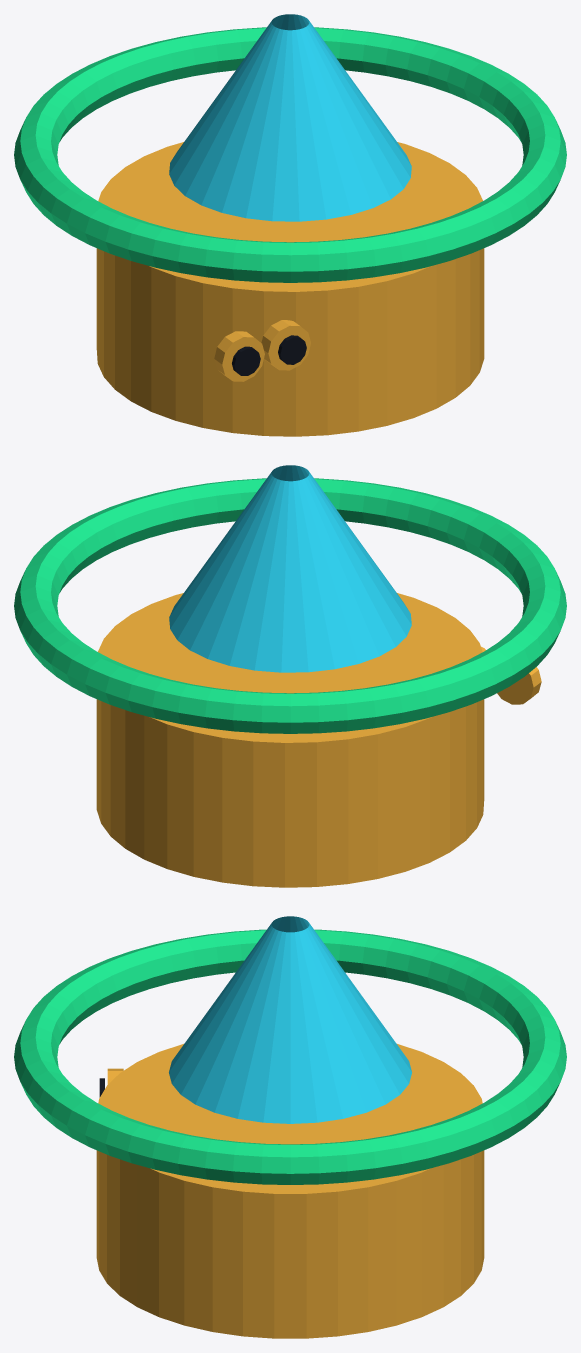
Rendered from 79_L86_ServicingMissionCertificationBeacon.fbx.
3 renders of one model, top to bottom at view 1: azimuth 30°, elevation 25°; view 2: azimuth 150°, elevation 25°; view 3: azimuth 270°, elevation 25°, orthographic.
Visible parts, largest first — view 1: L86_ServicingMissionCertificationBeacon_Part_0000, L86_ServicingMissionCertificationBeacon_Part_0001, L86_ServicingMissionCertificationBeacon_Part_0002, L86_ServicingMissionCertificationBeacon_Part_0003, L86_ServicingMissionCertificationBeacon_Part_0005, L86_ServicingMissionCertificationBeacon_Part_0006, L86_ServicingMissionCertificationBeacon_Part_0004; view 2: L86_ServicingMissionCertificationBeacon_Part_0000, L86_ServicingMissionCertificationBeacon_Part_0001, L86_ServicingMissionCertificationBeacon_Part_0002, L86_ServicingMissionCertificationBeacon_Part_0003; view 3: L86_ServicingMissionCertificationBeacon_Part_0000, L86_ServicingMissionCertificationBeacon_Part_0001, L86_ServicingMissionCertificationBeacon_Part_0002.
Part boxes in pixels (x1,y1,x2,y2): L86_ServicingMissionCertificationBeacon_Part_0000: (96,142,484,436); L86_ServicingMissionCertificationBeacon_Part_0001: (14,27,566,282); L86_ServicingMissionCertificationBeacon_Part_0002: (169,14,411,221); L86_ServicingMissionCertificationBeacon_Part_0003: (214,331,264,381); L86_ServicingMissionCertificationBeacon_Part_0005: (261,320,310,370); L86_ServicingMissionCertificationBeacon_Part_0006: (278,335,306,364); L86_ServicingMissionCertificationBeacon_Part_0004: (232,346,260,375); L86_ServicingMissionCertificationBeacon_Part_0000: (96,593,484,887); L86_ServicingMissionCertificationBeacon_Part_0001: (14,478,566,733); L86_ServicingMissionCertificationBeacon_Part_0002: (169,465,411,672); L86_ServicingMissionCertificationBeacon_Part_0003: (497,667,541,704); L86_ServicingMissionCertificationBeacon_Part_0000: (96,1044,484,1338); L86_ServicingMissionCertificationBeacon_Part_0001: (14,929,566,1184); L86_ServicingMissionCertificationBeacon_Part_0002: (169,916,411,1123).
Bounding box in the file's own units: 145 × 96.5 × 145.
